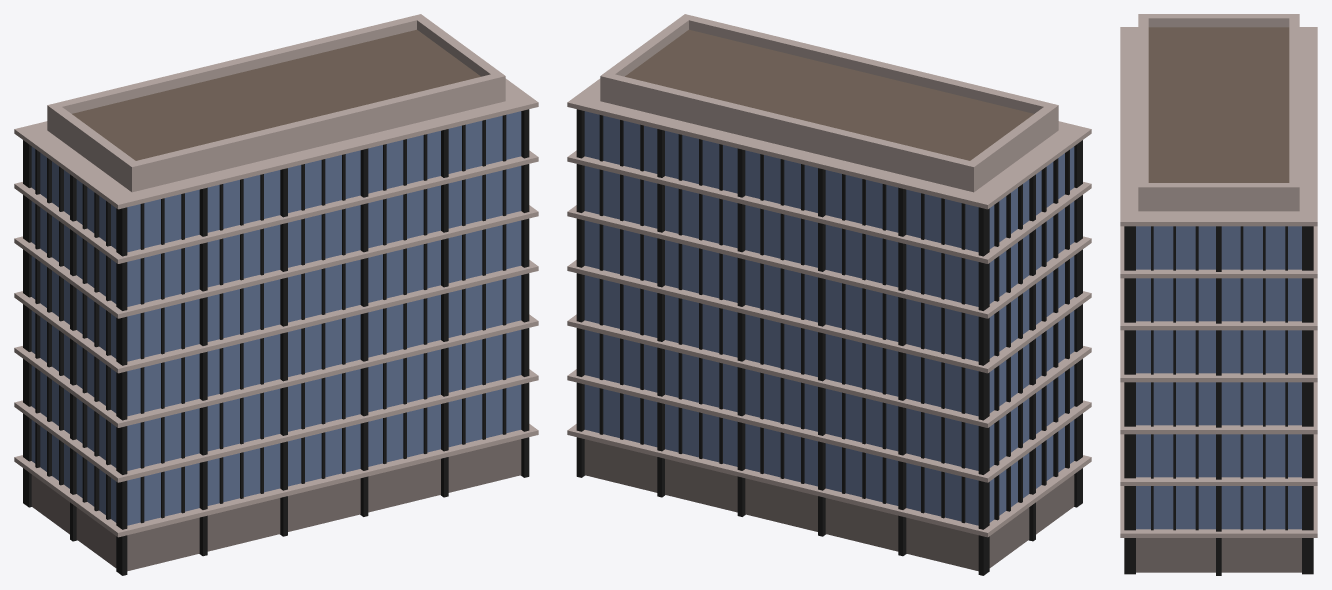
File: LargeBuilding_14.fbx
3 views of the same model, side by side, from view 1: azimuth 30°, elevation 25°; view 2: azimuth 150°, elevation 25°; view 3: azimuth 270°, elevation 25° (orthographic). The views are drawn at different scales.
Visible parts, largest first — view 1: LargeBuilding_14; view 2: LargeBuilding_14; view 3: LargeBuilding_14.
Boxes of the visible parts, x1,y1,x2,y2 form: LargeBuilding_14: (14, 14, 538, 575); LargeBuilding_14: (567, 14, 1091, 575); LargeBuilding_14: (1120, 14, 1317, 575).
Bounding box in the file's own units: 26.12 × 23.73 × 11.15.
